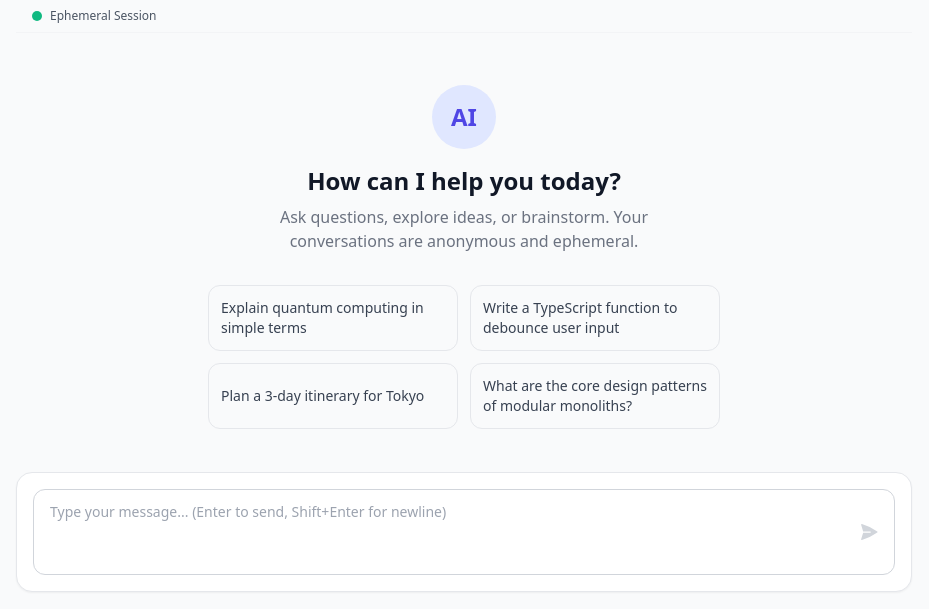
Test: ChatView Component › displays the error banner without wiping user input buffer when API fails
Replace the text in the text box with "My query that failed". click: (464, 532)
box: [33,489,895,575]
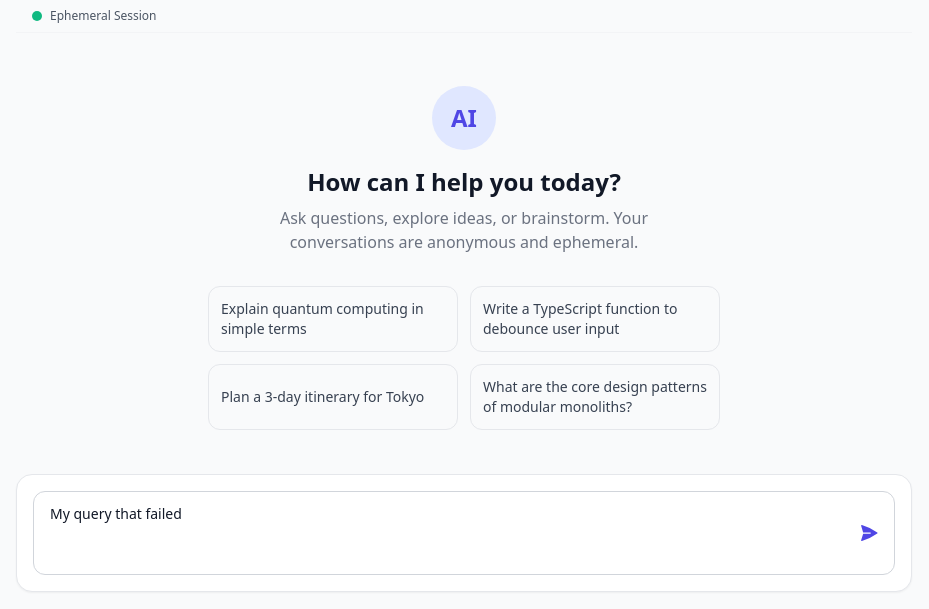
Submit the form, box [16,474,912,592]
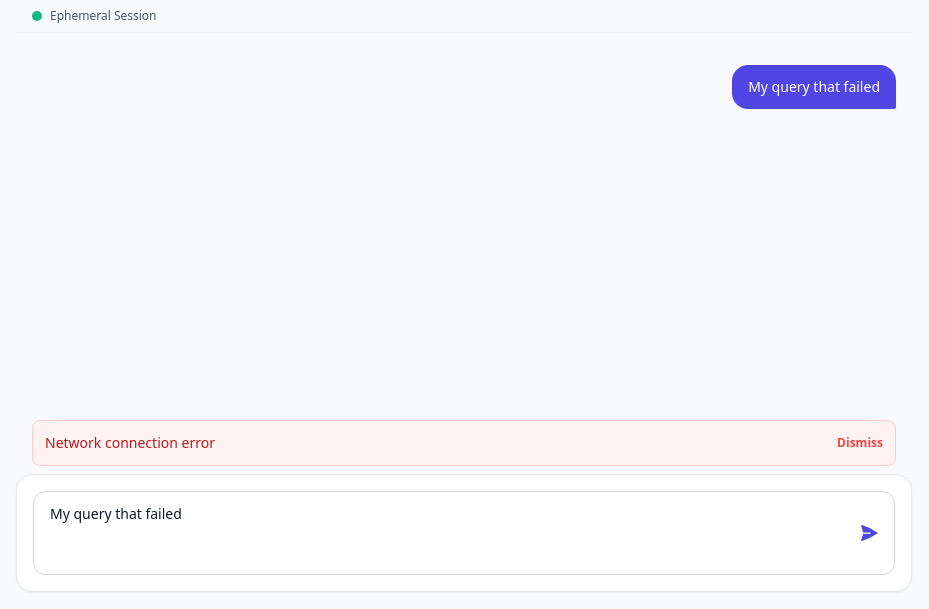
Check: the message "Network connection error Dismiss" is shown, box [32,420,896,466]
